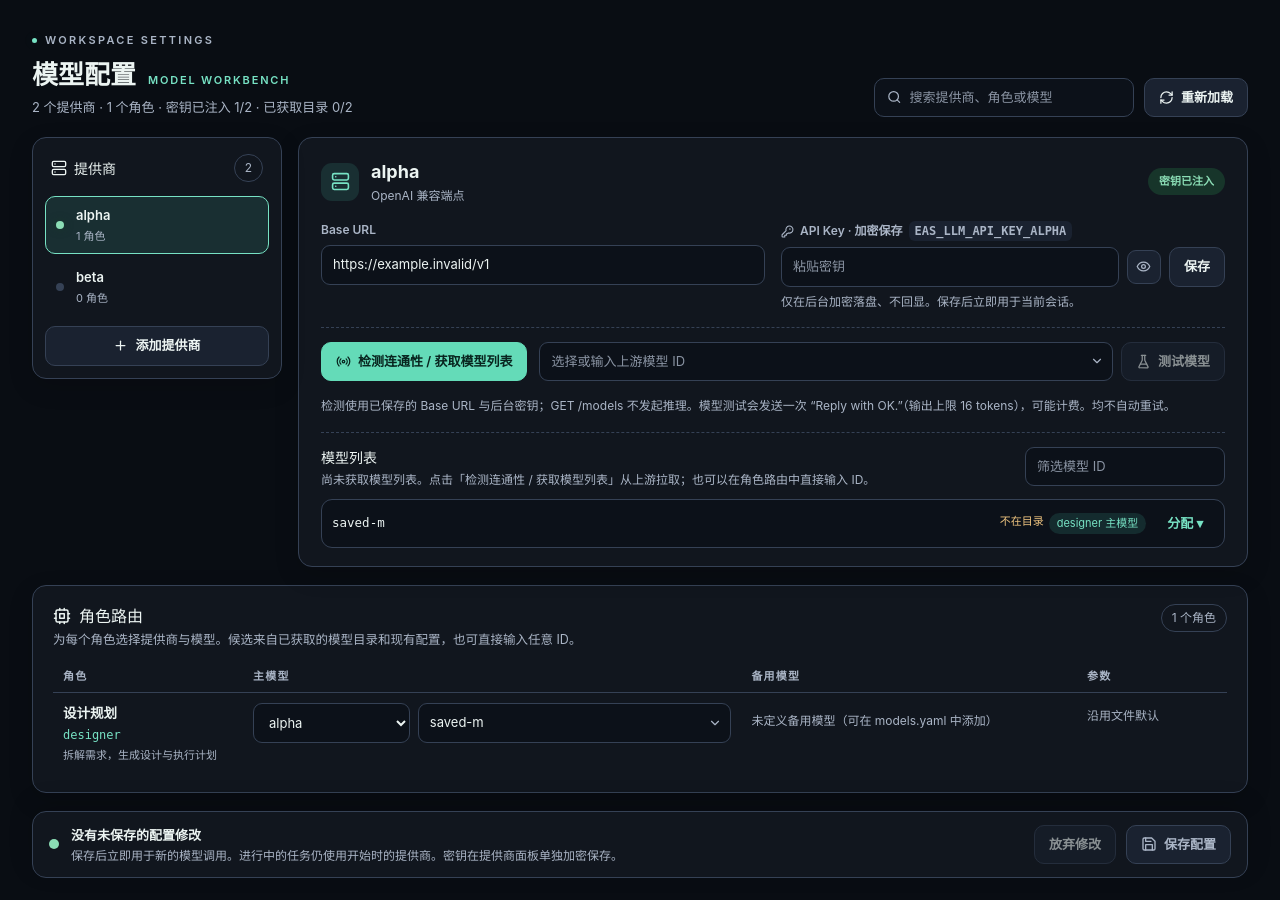
Test: 提供商面板 · 上游检测 › 网络失败保留输入并显示可重试提示
Check: the field named "alpha Base URL" is shown, box x1=321 y1=245 x2=765 y2=284
Type "custom" into the dropdown named "待测模型 ID". click: (826, 361)
box: x1=540 y1=342 x2=1113 y2=381
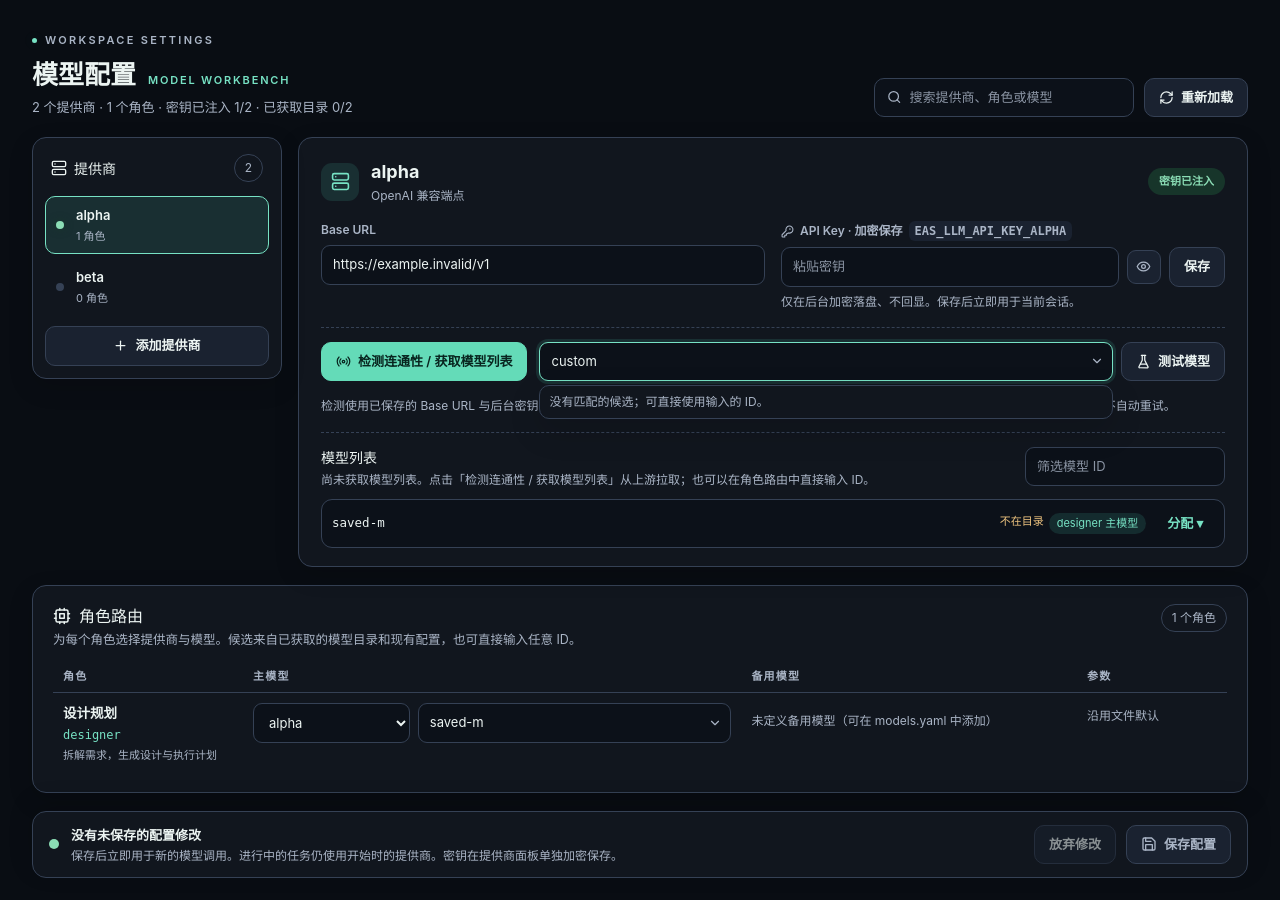
Click the button "检测连通性 / 获取模型列表". click: click(424, 361)
box: x1=321 y1=342 x2=528 y2=381
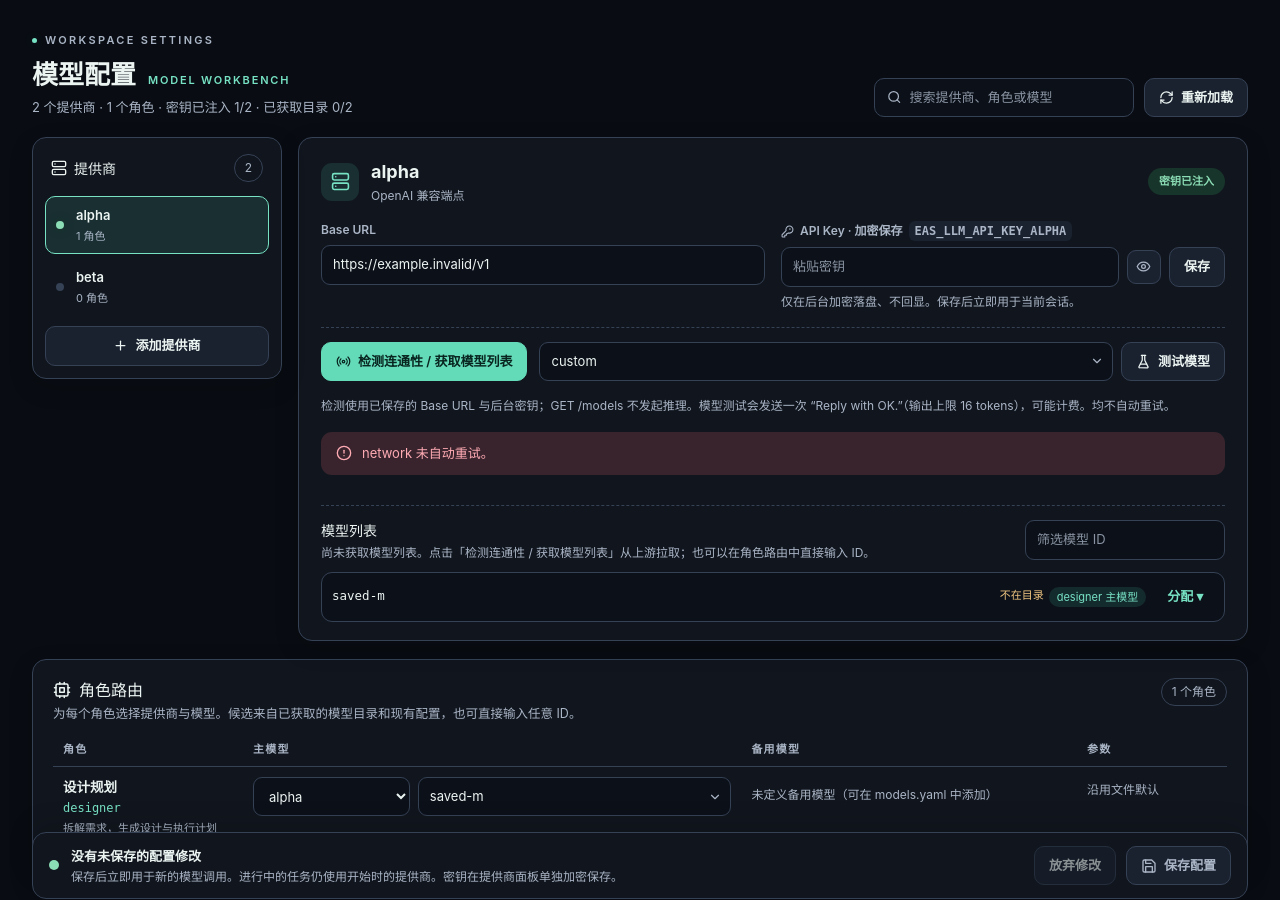
Check: the message "network 未自动重试。" is shown, box x1=321 y1=432 x2=1225 y2=475
